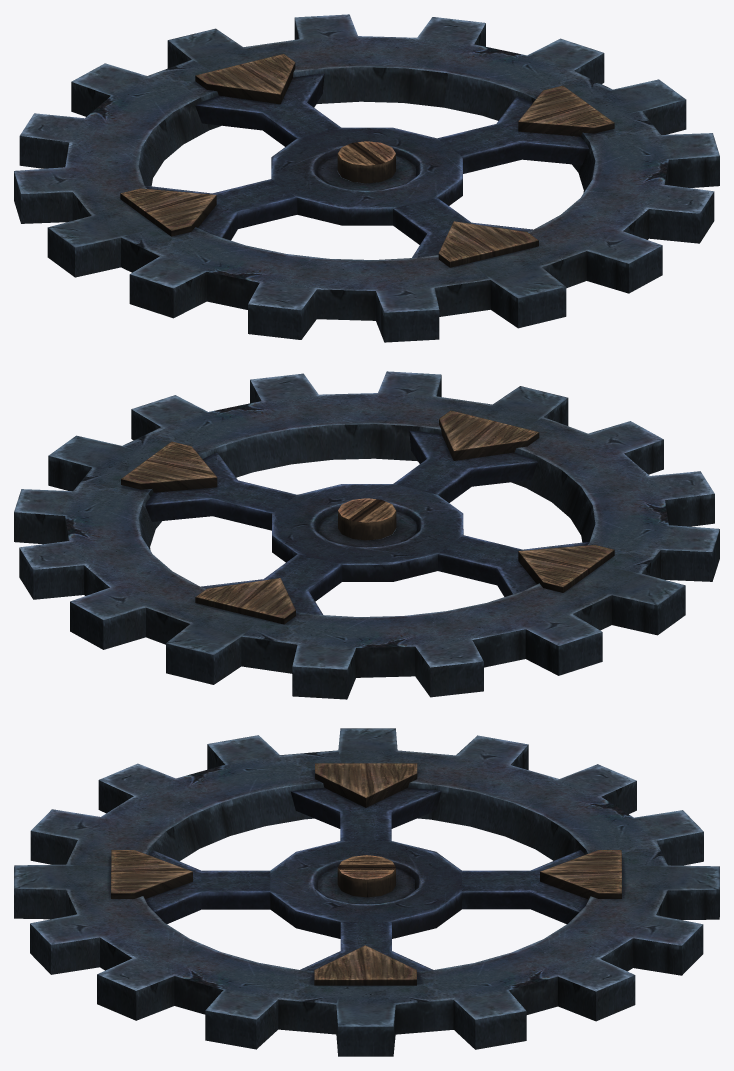
Rendered from SV_AFT_jjc2_chilun1_0.FBX.
The picture shows the model from 3 angles, top to bottom: view 1: azimuth 30°, elevation 25°; view 2: azimuth 150°, elevation 25°; view 3: azimuth 270°, elevation 25°; orthographic projection.
Visible parts, largest first — view 1: SV_AFT_jjc2_chilun1_0; view 2: SV_AFT_jjc2_chilun1_0; view 3: SV_AFT_jjc2_chilun1_0.
Boxes of the visible parts, <box> form: SV_AFT_jjc2_chilun1_0: <box>14,14,719,342</box>; SV_AFT_jjc2_chilun1_0: <box>14,371,719,699</box>; SV_AFT_jjc2_chilun1_0: <box>14,728,719,1056</box>.
Bounding box in the file's own units: 9.27 × 0.5796 × 9.27.
